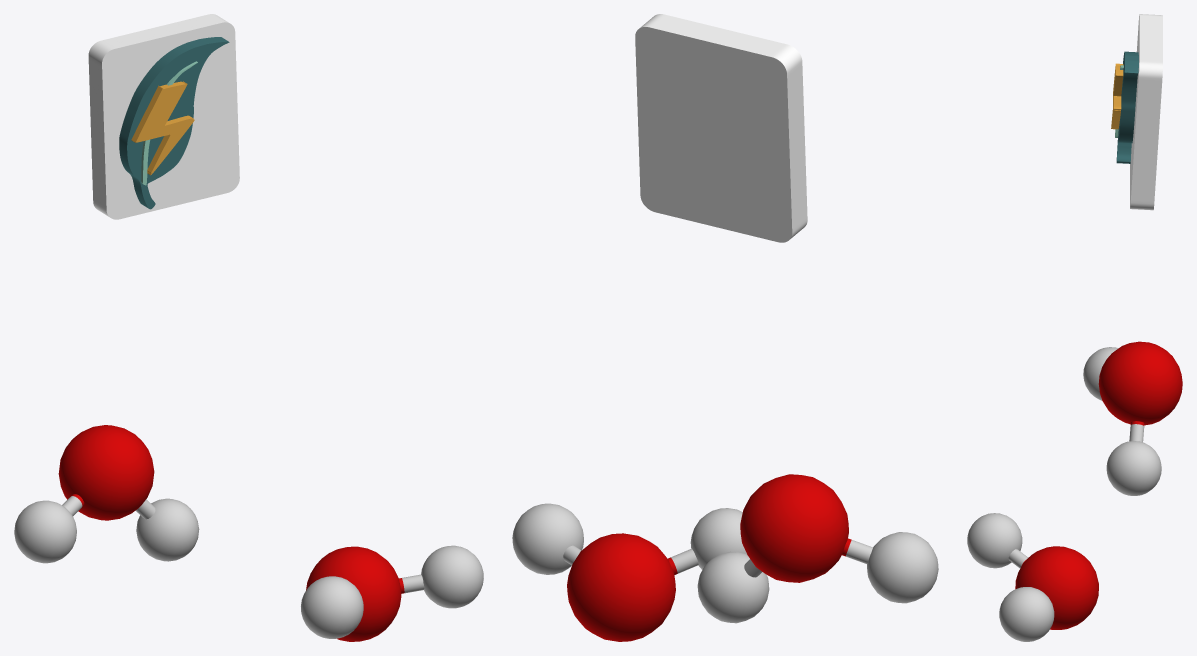
3 views of the same model, side by side, from view 1: azimuth 30°, elevation 25°; view 2: azimuth 150°, elevation 25°; view 3: azimuth 270°, elevation 25° (orthographic). The views are drawn at different scales.
Visible parts, largest first — view 1: path182, AGUA_glss.001, AGUA_glss, path184, path188; view 2: path182, AGUA_glss.001, AGUA_glss; view 3: AGUA_glss, AGUA_glss.001, path182, path184, path188.
Boxes of the visible parts, box(x1,y1,x2,y2) form: path182: box(88, 14, 239, 219); AGUA_glss.001: box(14, 425, 199, 563); AGUA_glss: box(301, 545, 483, 641); path184: box(119, 37, 229, 209); path188: box(131, 81, 194, 175); path182: box(635, 14, 807, 242); AGUA_glss.001: box(697, 474, 938, 623); AGUA_glss: box(512, 503, 746, 641); AGUA_glss: box(967, 513, 1098, 641); AGUA_glss.001: box(1083, 341, 1182, 495); path182: box(1130, 14, 1162, 210); path184: box(1116, 51, 1138, 163); path188: box(1111, 63, 1123, 129).
Size of the model in its own units: 4.43 by 6.15 by 2.27.
